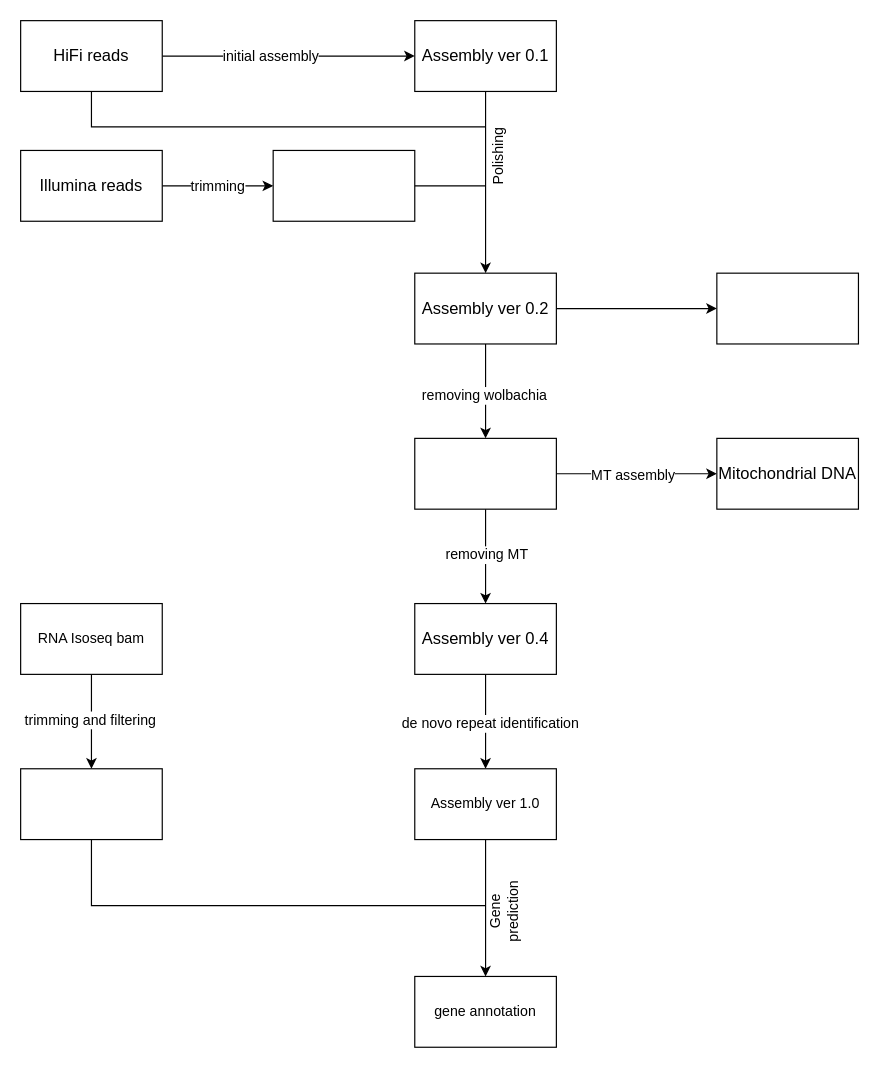
Image size: 879x1068. Some labels were removed from this diagram. The shapes that lost their labels are listed below. From the top down, each one's centre as x and y in pixels, then its label:
At point (343, 185): "trimmed reads".
At point (787, 308): "Wolbachia analysis".
At point (485, 473): "Assembly ver 0.3".
At point (90, 804): "RNA hq reads".
